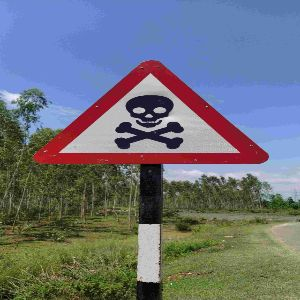Accident prone area: (32, 51, 277, 174)
